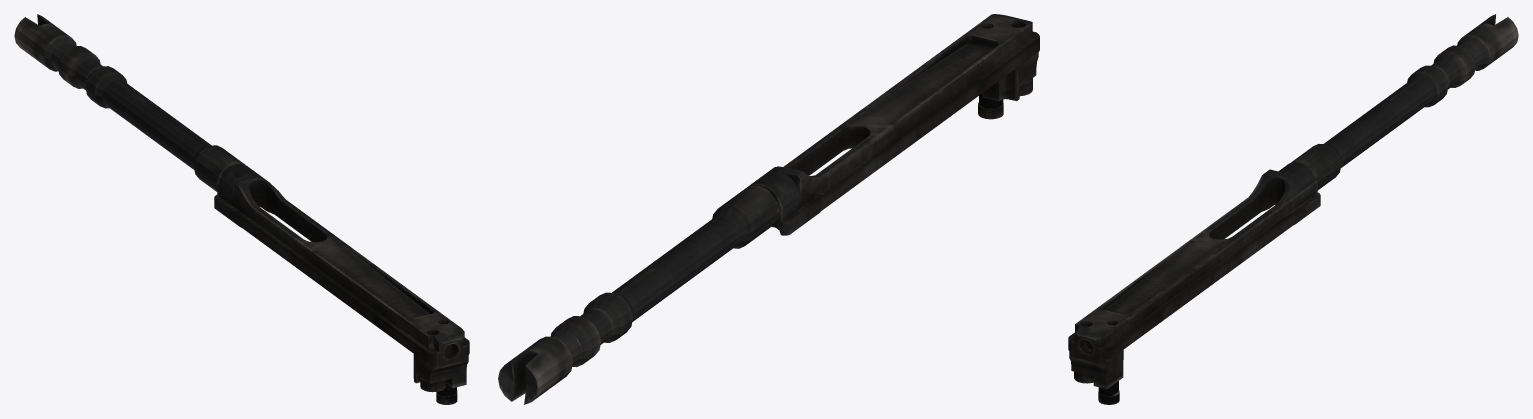
The picture shows the model from 3 angles, left to right: view 1: azimuth 30°, elevation 25°; view 2: azimuth 150°, elevation 25°; view 3: azimuth 330°, elevation 25°; orthographic projection. The views are drawn at different scales.
Visible parts, largest first — view 1: TW_65268d8ecb944ff1e90ea385_PZ_Import; view 2: TW_65268d8ecb944ff1e90ea385_PZ_Import; view 3: TW_65268d8ecb944ff1e90ea385_PZ_Import.
Part boxes in pixels (left/top/right/bottom): TW_65268d8ecb944ff1e90ea385_PZ_Import: left=14, top=14, right=469, bottom=404; TW_65268d8ecb944ff1e90ea385_PZ_Import: left=498, top=14, right=1039, bottom=404; TW_65268d8ecb944ff1e90ea385_PZ_Import: left=1068, top=14, right=1518, bottom=404.
Size of the model in its own units: 0.0137 by 0.2255 by 0.0269.
Materials: 1 (1 with a texture image).
